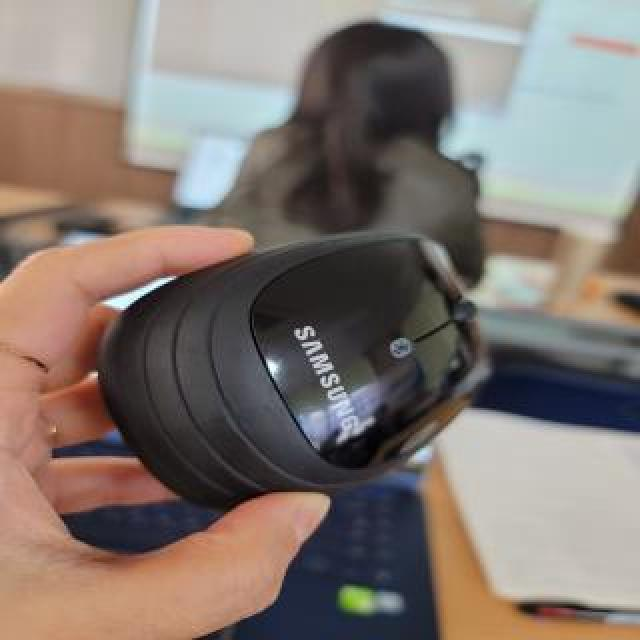mouse: (103, 255, 527, 490)
